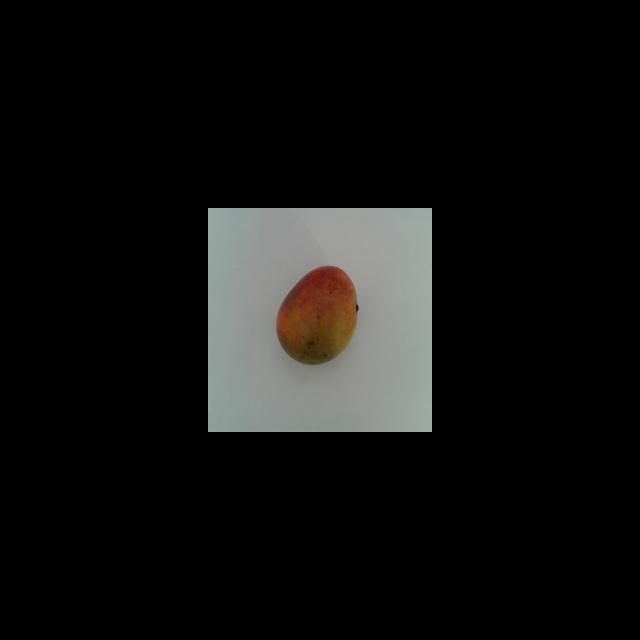Mango: (275, 264, 358, 365)
